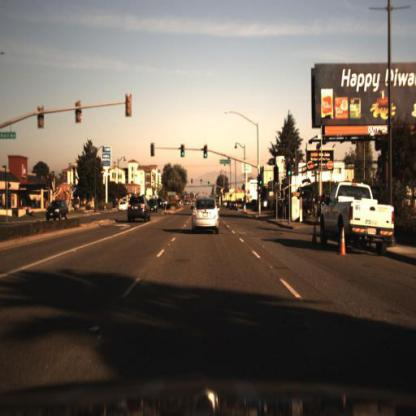car: (318, 181, 399, 261), (316, 178, 397, 252), (190, 194, 222, 236), (124, 194, 153, 227), (45, 199, 69, 223), (148, 197, 160, 217), (116, 201, 130, 214), (230, 201, 239, 215)
trafficLight: (149, 143, 157, 159)
trafficLight-Green: (285, 159, 293, 182), (179, 143, 186, 161), (203, 142, 209, 161), (258, 175, 264, 193), (289, 161, 294, 178), (204, 146, 210, 160), (259, 176, 265, 189), (182, 145, 187, 160)
